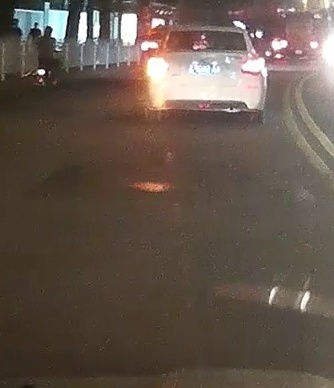L_light: (148, 58, 167, 75)
R_light: (241, 59, 264, 74)
T_light: (194, 44, 207, 49)
night-left: (143, 20, 271, 122)
